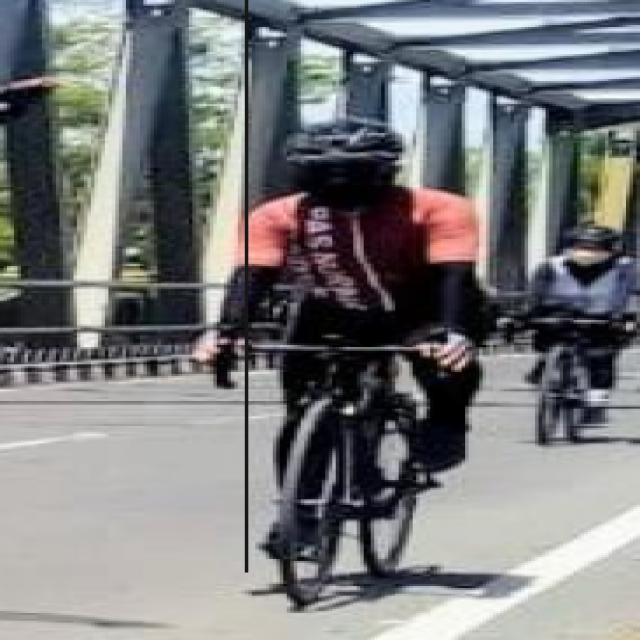car: (148, 302, 498, 606), (503, 305, 640, 446)
